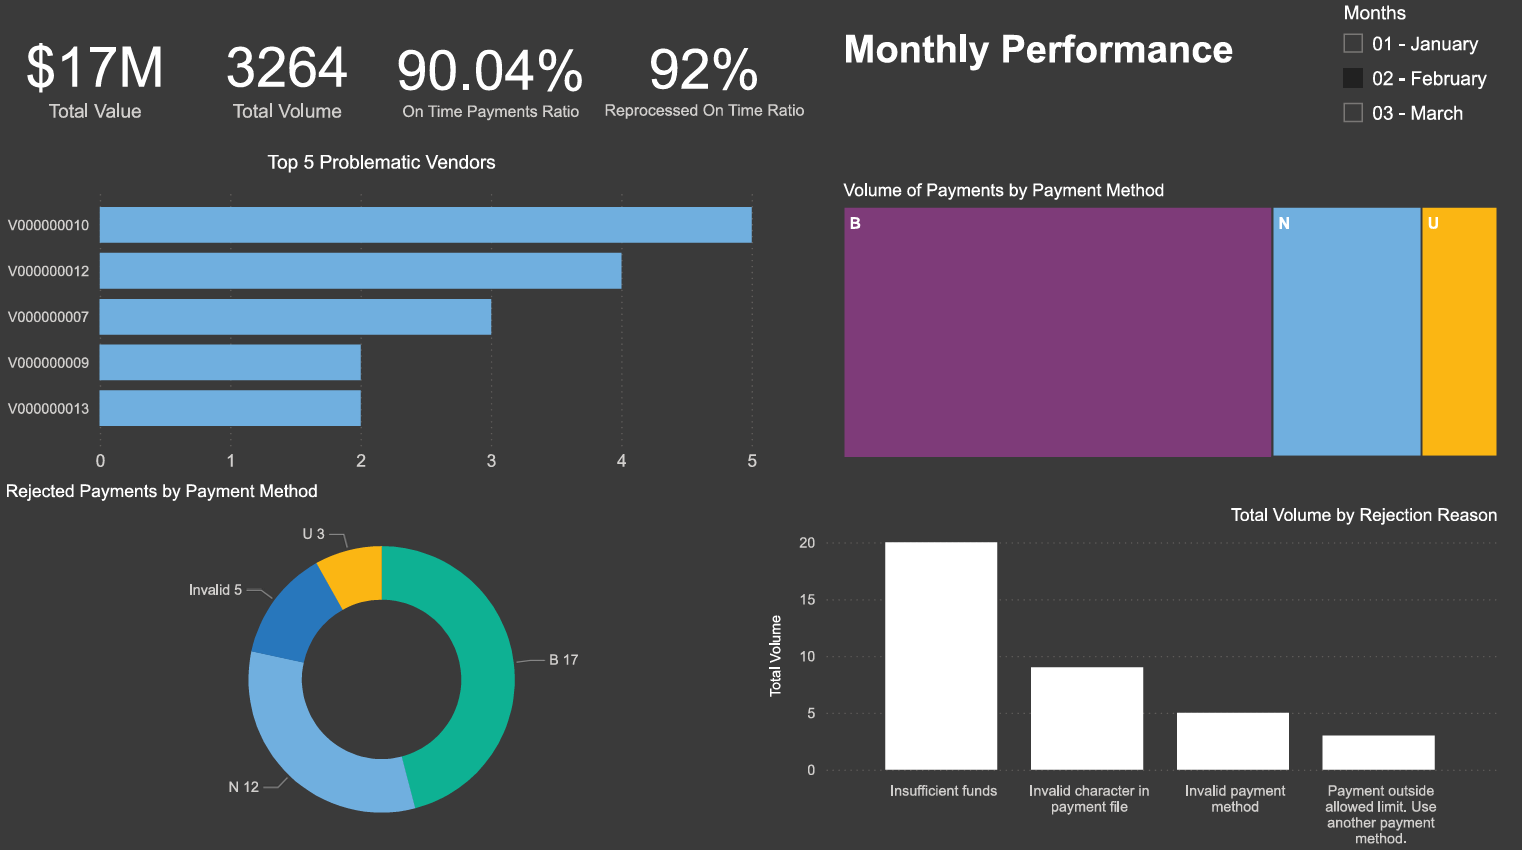

What the dashboard file says about the page in this screenshot:
{"tool":"powerbi","page":{"name":"Monthly Performance","canvas":[1280,720],"ordinal":1},"visuals":[{"type":"slicer","fields":{"Values":["Accounts_Payable_Sample.Months"]},"box":[1113,0,167,154],"z":0},{"type":"card","fields":{"Values":["Sum(Accounts_Payable_Sample.Amount in USD)"]},"box":[0,0,160,130.5],"z":1000},{"type":"card","fields":{"Values":["Measures Table.Total Volume"]},"box":[160,0,161.9,130.5],"z":2000},{"type":"clusteredColumnChart","fields":{"Category":["Accounts_Payable_Sample.Rejection Reason"],"Y":["Measures Table.Total Volume"]},"box":[640,425.6,620,294.4],"z":3000},{"type":"donutChart","title":"Rejected Payments by Payment Method","fields":{"Y":["Measures Table.Total Volume"],"Category":["Accounts_Payable_Sample.Payment Method Grouped"]},"box":[0,405.6,640,314.4],"z":4000},{"type":"clusteredBarChart","title":"Top 5 Problematic Vendors","fields":{"Category":["Accounts_Payable_Sample.Vendor Number"],"Y":["Measures Table.Total Volume"]},"box":[0,130,640,275.6],"z":5000},{"type":"card","fields":{"Values":["Measures Table.Reprocessed On Time Ratio"]},"box":[501.1,0,178.9,130],"z":6000},{"type":"card","fields":{"Values":["Measures Table.On Time Payments Ratio"]},"box":[322.2,1.1,178.9,130],"z":7000},{"type":"treemap","title":"Volume of Payments by Payment Method","fields":{"Group":["Accounts_Payable_Sample.Payment Method Grouped"],"Values":["Measures Table.Total Volume"]},"box":[702.2,154.4,557.8,236.7],"z":8000},{"type":"textbox","box":[702,21,411,56],"z":9000}]}

Visuals, with their boxes in screenshot pixels (x1, y1, x2, y2), scaled from the page's 1280x720 canvas onto the 1522x850 screenshot:
slicer - Accounts_Payable_Sample.Months: locate(1323, 0, 1521, 182)
card - Sum(Accounts_Payable_Sample.Amount in USD): locate(0, 0, 190, 154)
card - Measures Table.Total Volume: locate(190, 0, 383, 154)
clusteredColumnChart - Accounts_Payable_Sample.Rejection Reason x Measures Table.Total Volume: locate(761, 502, 1498, 849)
"Rejected Payments by Payment Method" donutChart: locate(0, 479, 761, 849)
"Top 5 Problematic Vendors" clusteredBarChart: locate(0, 153, 761, 479)
card - Measures Table.Reprocessed On Time Ratio: locate(596, 0, 809, 153)
card - Measures Table.On Time Payments Ratio: locate(383, 1, 596, 155)
"Volume of Payments by Payment Method" treemap: locate(835, 182, 1498, 462)
textbox: locate(835, 25, 1323, 91)
